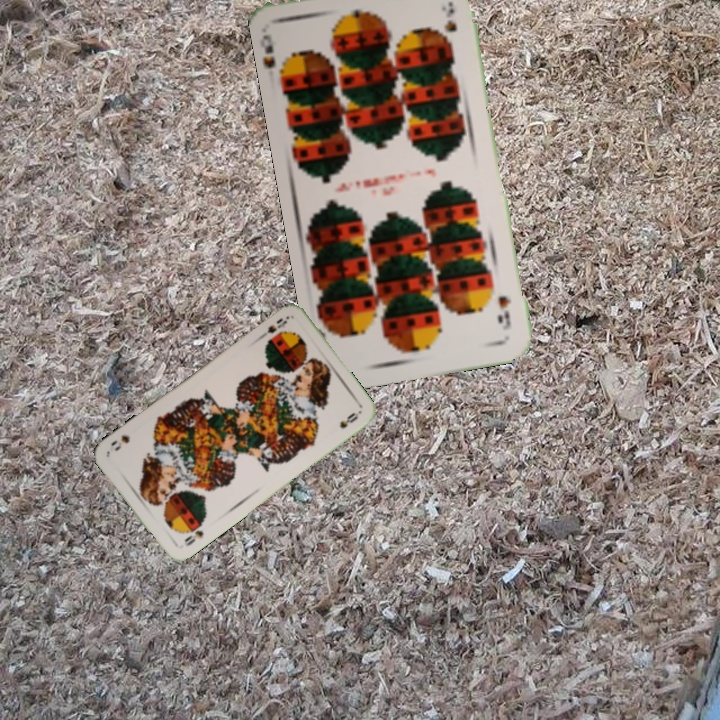S9: (258, 30, 290, 82), (493, 292, 513, 332)
SO: (256, 314, 290, 341), (180, 526, 206, 549)
